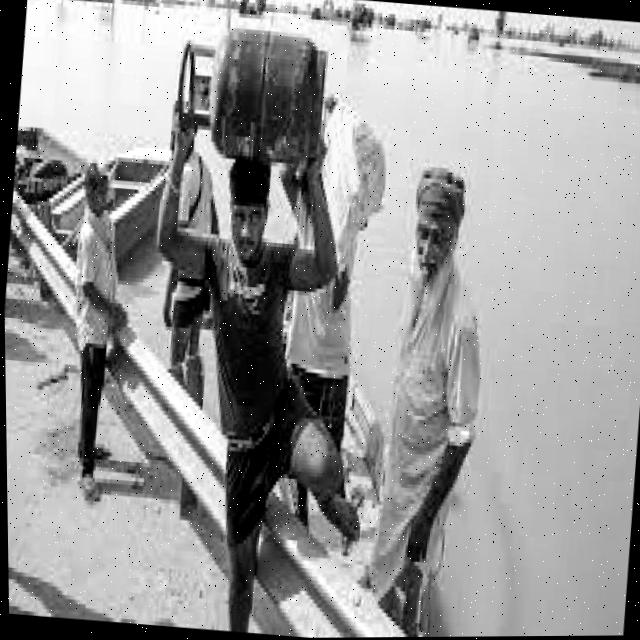civilian: (138, 149, 374, 639), (344, 158, 515, 637), (36, 144, 161, 508), (127, 121, 242, 408)
